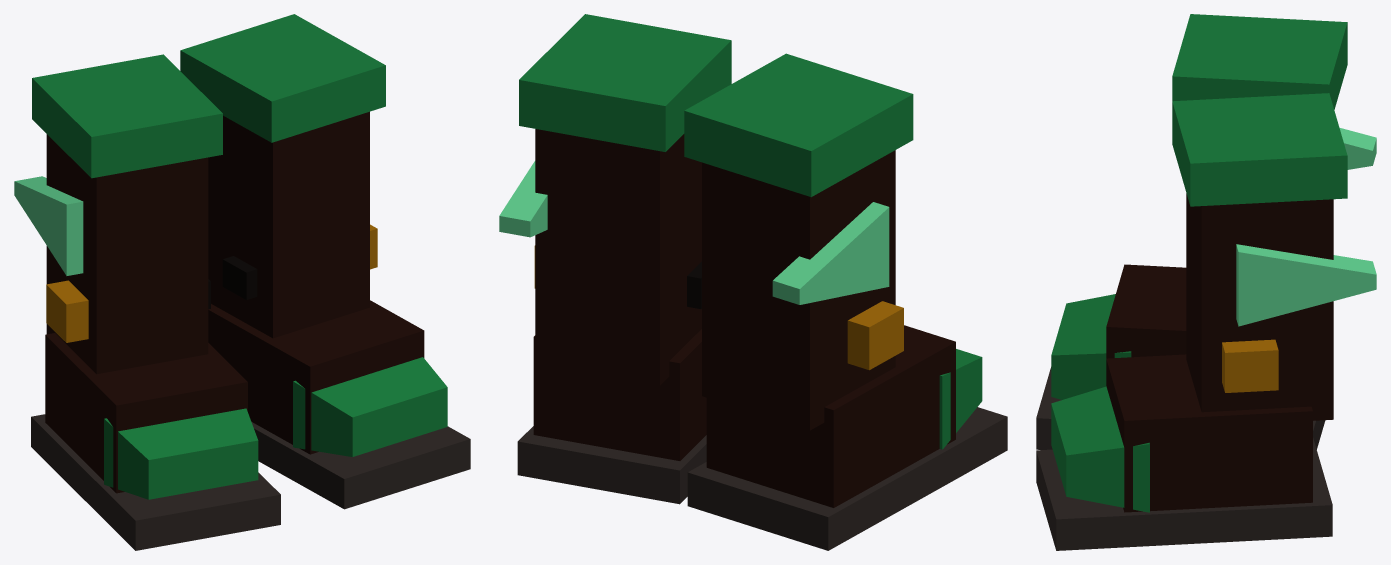
Rendered from BotasLigeras_low.fbx.
3 views of the same model, side by side, from view 1: azimuth 30°, elevation 25°; view 2: azimuth 150°, elevation 25°; view 3: azimuth 270°, elevation 25° (orthographic). The views are drawn at different scales.
Parts seen in each view (by area): view 1: BotasLigeras_low; view 2: BotasLigeras_low; view 3: BotasLigeras_low.
Boxes of the visible parts, x1,y1,x2,y2 form: BotasLigeras_low: [14, 14, 470, 550]; BotasLigeras_low: [499, 14, 1007, 550]; BotasLigeras_low: [1036, 14, 1376, 550].
Bounding box in the file's own units: 63.66 × 65.7 × 53.79.
